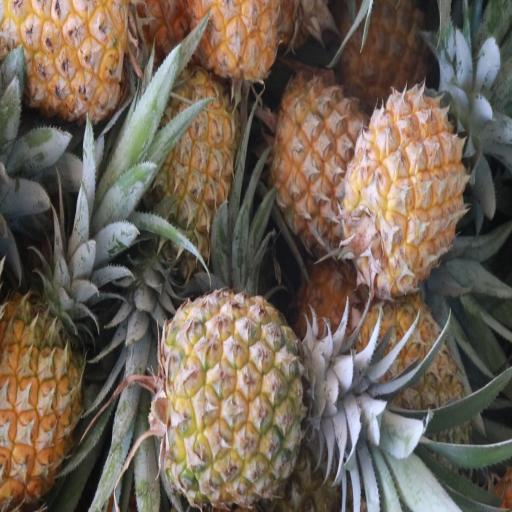------------------------------: (161, 292, 312, 498), (354, 304, 469, 474), (269, 74, 363, 254)
Pineapple - v8 v1: (349, 94, 468, 295), (0, 304, 87, 512), (0, 0, 129, 137), (148, 72, 232, 274), (343, 0, 432, 108), (197, 2, 286, 106)
